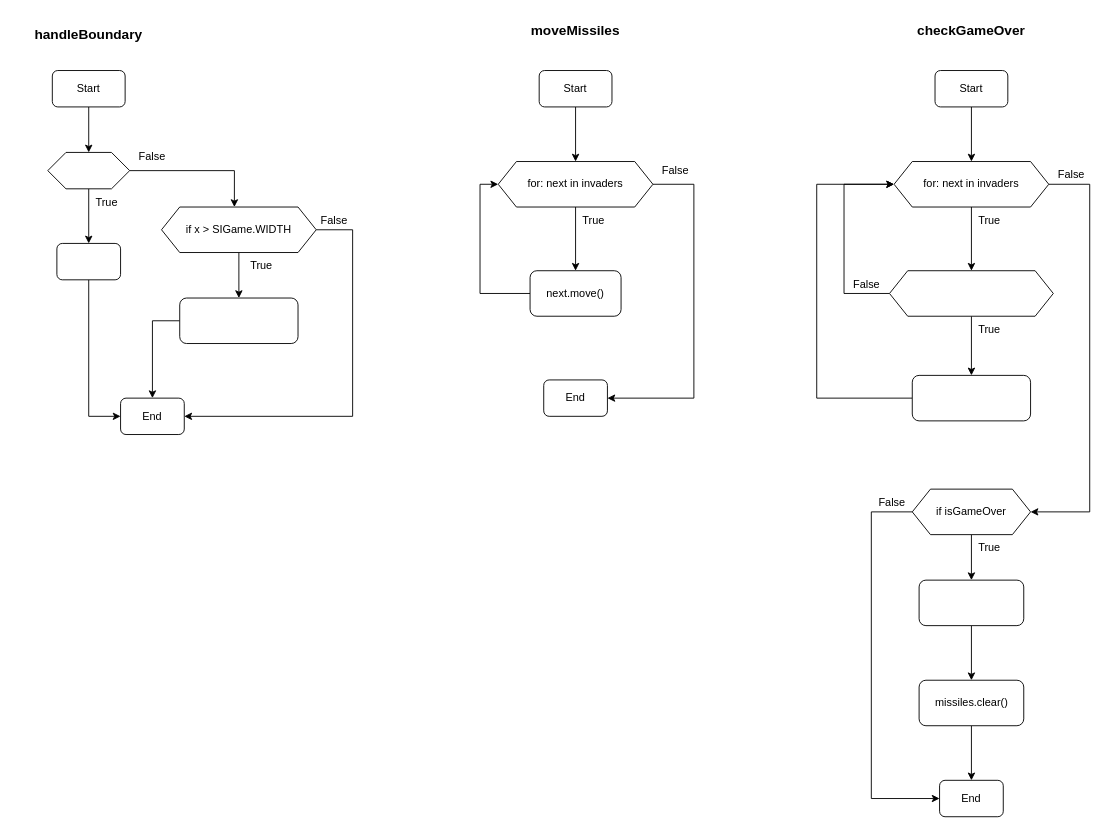
Image size: 1114x833. Some labels were removed from this diagram. Each missing label, with the centre of its shape:
"if next.getY() > HEIGHT" goes at [971,293].
"if x < 0" goes at [88,170].
"invaders.clear()" goes at [971,602].
"isGameOver = true" goes at [971,397].
"x = 0" goes at [88,261].
"x = SIGame.WIDTH" goes at [238,320].
